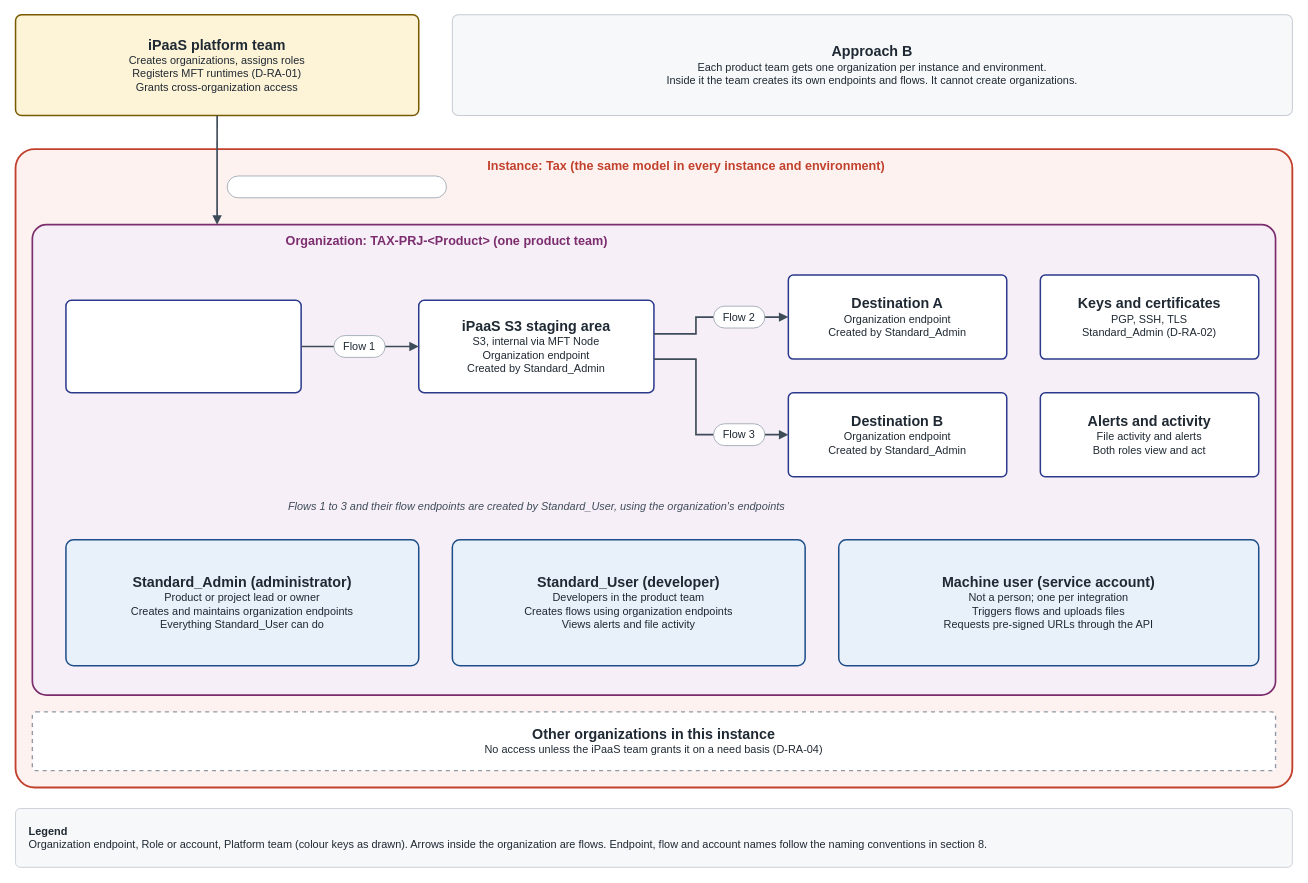
This 1308x883 diagram has some shape labels left out. Here are the shapes that lost their labels. From the top down, the centre of each, then its label:
point 336,186: Creates organization, assigns roles
point 183,346: Source A SFTP site (external) Organization endpoint Created by Standard_Admin
